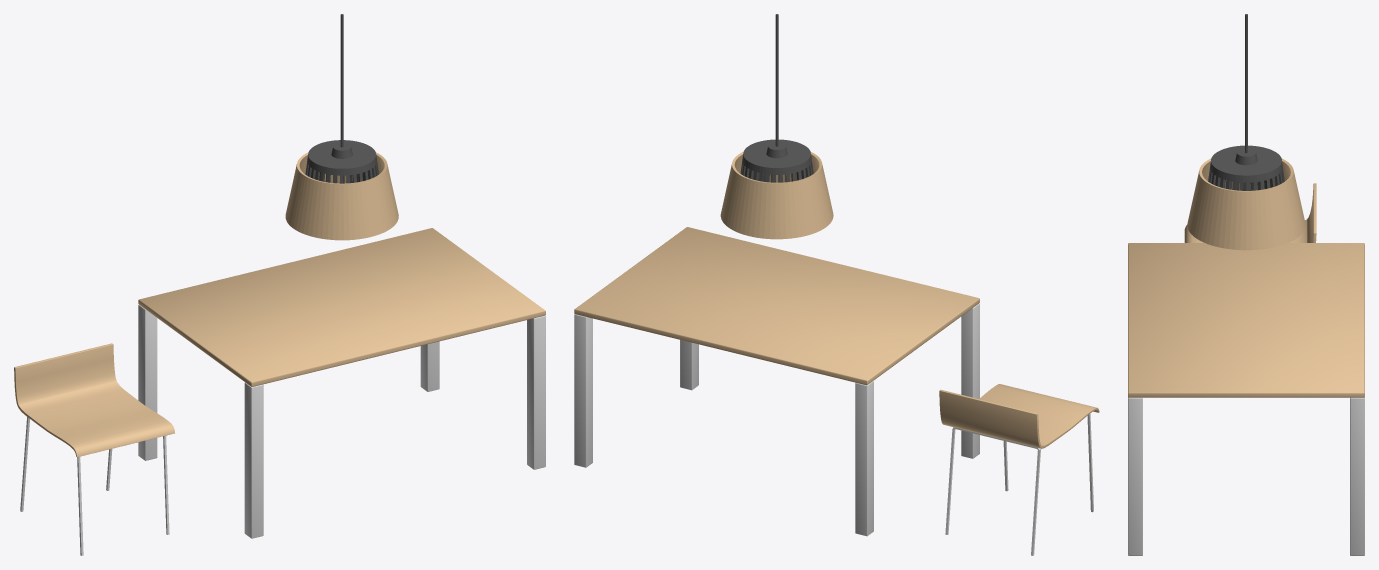
File: chair.fbx
The picture shows the model from 3 angles, left to right: view 1: azimuth 30°, elevation 25°; view 2: azimuth 150°, elevation 25°; view 3: azimuth 270°, elevation 25°; orthographic projection. The views are drawn at different scales.
Visible parts, largest first — view 1: Plane, Plane.005, Cube, Cylinder, Cylinder.002, Plane.004; view 2: Plane, Cube, Cylinder, Plane.005, Cylinder.002, Plane.004; view 3: Plane, Cylinder, Cube, Cylinder.002, Plane.005, Cylinder.001, Cylinder.003.
Part boxes in pixels (left/top/right/bottom): Plane: left=138, top=228, right=545, bottom=386; Plane.005: left=14, top=343, right=174, bottom=457; Cube: left=138, top=305, right=545, bottom=538; Cylinder: left=285, top=152, right=398, bottom=240; Cylinder.002: left=305, top=140, right=378, bottom=183; Plane.004: left=20, top=417, right=169, bottom=555; Plane: left=574, top=227, right=979, bottom=385; Cube: left=574, top=303, right=979, bottom=536; Cylinder: left=720, top=151, right=833, bottom=239; Plane.005: left=939, top=384, right=1099, bottom=448; Cylinder.002: left=740, top=139, right=813, bottom=182; Plane.004: left=945, top=413, right=1093, bottom=555; Plane: left=1128, top=243, right=1364, bottom=397; Cylinder: left=1187, top=158, right=1305, bottom=250; Cube: left=1128, top=396, right=1364, bottom=555; Cylinder.002: left=1208, top=145, right=1284, bottom=190; Plane.005: left=1184, top=183, right=1316, bottom=242; Cylinder.001: left=1245, top=14, right=1247, bottom=153; Cylinder.003: left=1235, top=148, right=1257, bottom=165.
Size of the model in its own units: 180 by 175 by 80.
